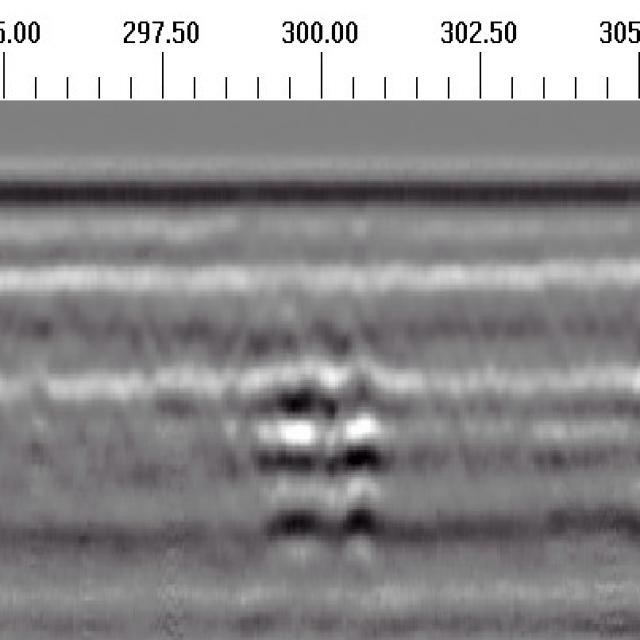loose: (241, 358, 392, 562)
